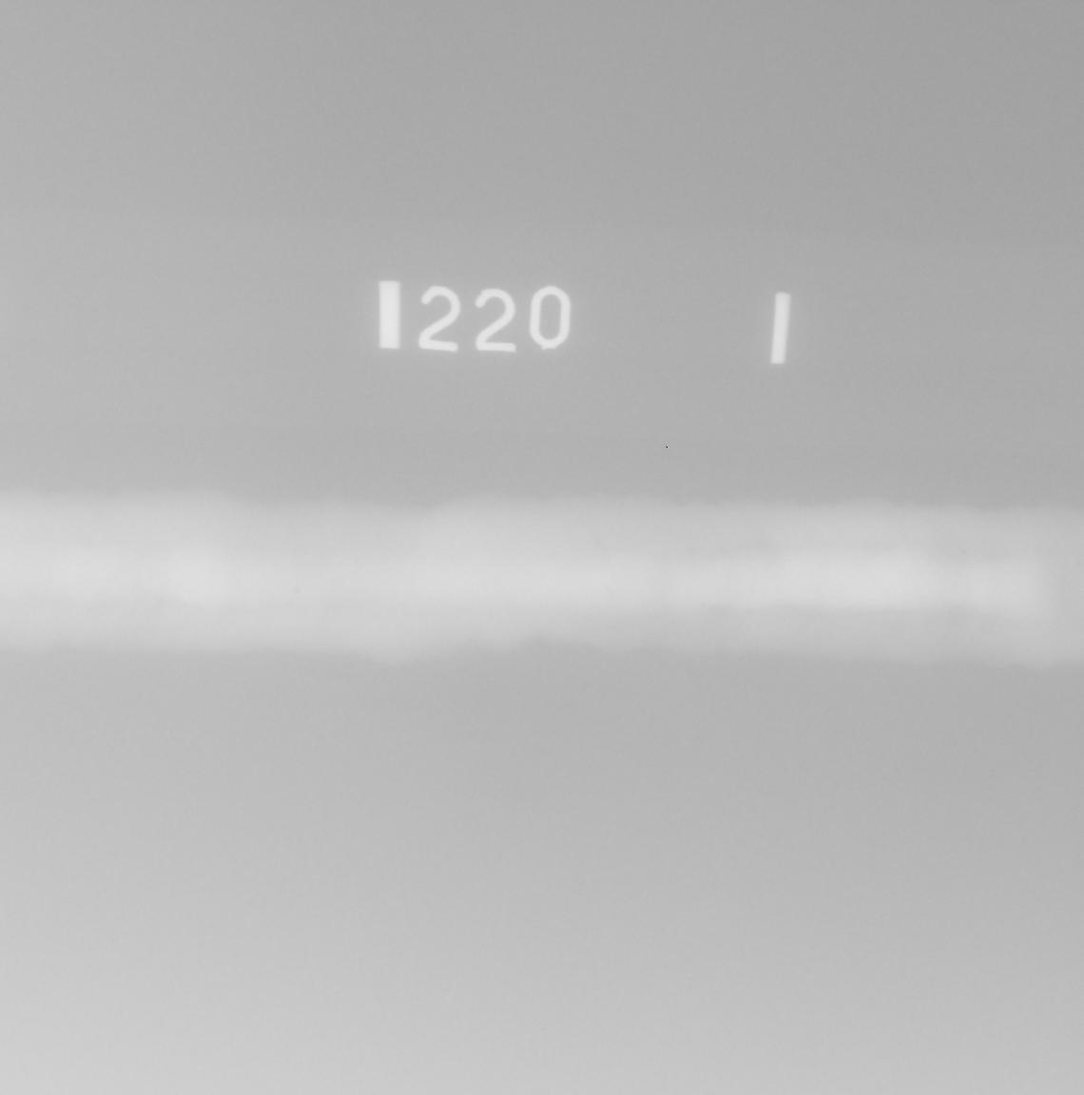Pore/Porosity: (294, 587, 301, 594), (951, 583, 958, 589), (962, 550, 967, 554), (966, 555, 969, 558)
